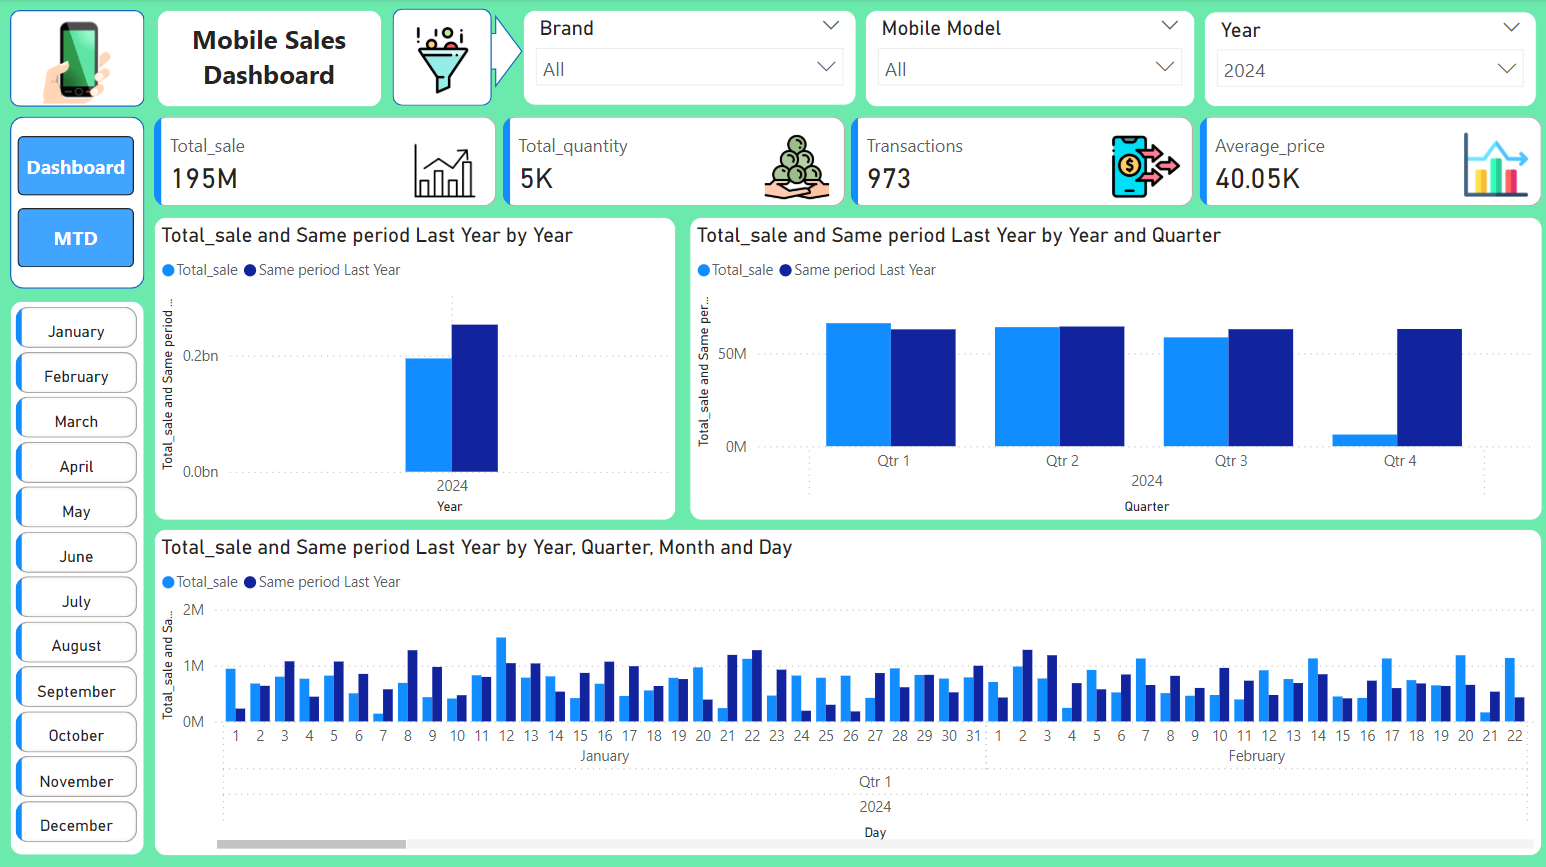

Layout of this report page (visuals, bound fields, positions):
{"tool":"powerbi","page":{"name":"Same Period Last year","canvas":[1280,720],"ordinal":2},"visuals":[{"type":"shape","box":[386.6,13.6,45.4,60.6],"z":0},{"type":"shape","box":[9.5,9.5,110.8,79.8],"z":1000},{"type":"image","box":[9.5,12.2,110.8,79.8],"z":2000},{"type":"textbox","box":[131.1,9.5,185.2,79.8],"z":3000},{"type":"slicer","fields":{"Values":["Mobile_sales_data.Brand"]},"box":[432.5,9.5,274.4,78.4],"z":4000},{"type":"advancedSlicerVisual","fields":{"Values":["custom_calender.Date.Variation.Date Hierarchy.Month"]},"box":[9.5,250.1,110.8,456.9],"z":5000},{"type":"slicer","fields":{"Values":["custom_calender.Date.Variation.Date Hierarchy.Year"]},"box":[993.3,10.6,274.1,78.7],"z":6000},{"type":"slicer","fields":{"Values":["Mobile_sales_data.Mobile Model"]},"box":[713.7,9.5,271.7,79.8],"z":7000},{"type":"shape","box":[9.5,97.3,110.8,141.9],"z":8000},{"type":"shape","box":[324.5,9.1,81.8,80.3],"z":9000},{"type":"image","box":[333.6,0,65.1,103],"z":10000},{"type":"cardVisual","fields":{"Data":["Mobile_sales_data.Total_sale","Mobile_sales_data.Total_quantity","Mobile_sales_data.Transactions","Mobile_sales_data.Average_price"]},"box":[128.4,97.3,1143.6,74.3],"z":11000},{"type":"clusteredColumnChart","fields":{"Category":["custom_calender.Date.Variation.Date Hierarchy.Year"],"Y":["Mobile_sales_data.Total_sale","Mobile_sales_data.Same period Last Year"]},"box":[128.7,180.2,430,249.8],"z":11001},{"type":"clusteredColumnChart","fields":{"Category":["custom_calender.Date.Variation.Date Hierarchy.Year","custom_calender.Date.Variation.Date Hierarchy.Quarter"],"Y":["Mobile_sales_data.Total_sale","Mobile_sales_data.Same period Last Year"]},"box":[569.3,180.2,702.6,249.8],"z":11002},{"type":"clusteredColumnChart","fields":{"Y":["Mobile_sales_data.Total_sale","Mobile_sales_data.Same period Last Year"],"Category":["custom_calender.Date.Variation.Date Hierarchy.Year","custom_calender.Date.Variation.Date Hierarchy.Quarter","custom_calender.Date.Variation.Date Hierarchy.Month","custom_calender.Date.Variation.Date Hierarchy.Day"]},"box":[128.7,437.6,1143.2,269.5],"z":11003},{"type":"pageNavigator","box":[16.7,113.6,96.9,109],"z":11004}]}

Visuals, with their boxes in screenshot pixels (x1, y1, x2, y2), scaled from the page's 1280x720 canvas onto the 1546x867 screenshot:
shape: [x1=467, y1=16, x2=522, y2=89]
shape: [x1=11, y1=11, x2=145, y2=108]
image: [x1=11, y1=15, x2=145, y2=111]
textbox: [x1=158, y1=11, x2=382, y2=108]
slicer - Mobile_sales_data.Brand: [x1=522, y1=11, x2=854, y2=106]
advancedSlicerVisual - custom_calender.Date.Variation.Date Hierarchy.Month: [x1=11, y1=301, x2=145, y2=851]
slicer - custom_calender.Date.Variation.Date Hierarchy.Year: [x1=1200, y1=13, x2=1531, y2=108]
slicer - Mobile_sales_data.Mobile Model: [x1=862, y1=11, x2=1190, y2=108]
shape: [x1=11, y1=117, x2=145, y2=288]
shape: [x1=392, y1=11, x2=491, y2=108]
image: [x1=403, y1=0, x2=482, y2=124]
cardVisual - Mobile_sales_data.Total_sale x Mobile_sales_data.Total_quantity: [x1=155, y1=117, x2=1536, y2=207]
clusteredColumnChart - custom_calender.Date.Variation.Date Hierarchy.Year x Mobile_sales_data.Total_sale: [x1=155, y1=217, x2=675, y2=518]
clusteredColumnChart - custom_calender.Date.Variation.Date Hierarchy.Year x custom_calender.Date.Variation.Date Hierarchy.Quarter: [x1=688, y1=217, x2=1536, y2=518]
clusteredColumnChart - Mobile_sales_data.Total_sale x Mobile_sales_data.Same period Last Year: [x1=155, y1=527, x2=1536, y2=851]
pageNavigator: [x1=20, y1=137, x2=137, y2=268]
